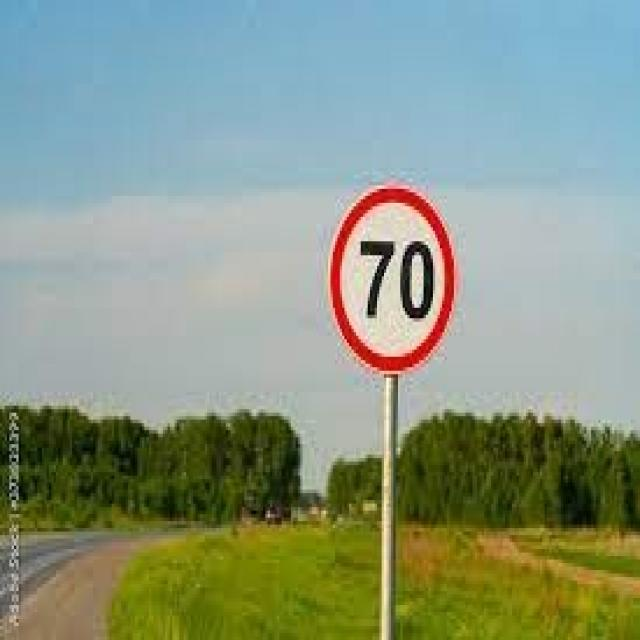speed_limit_70: (328, 176, 460, 379)
